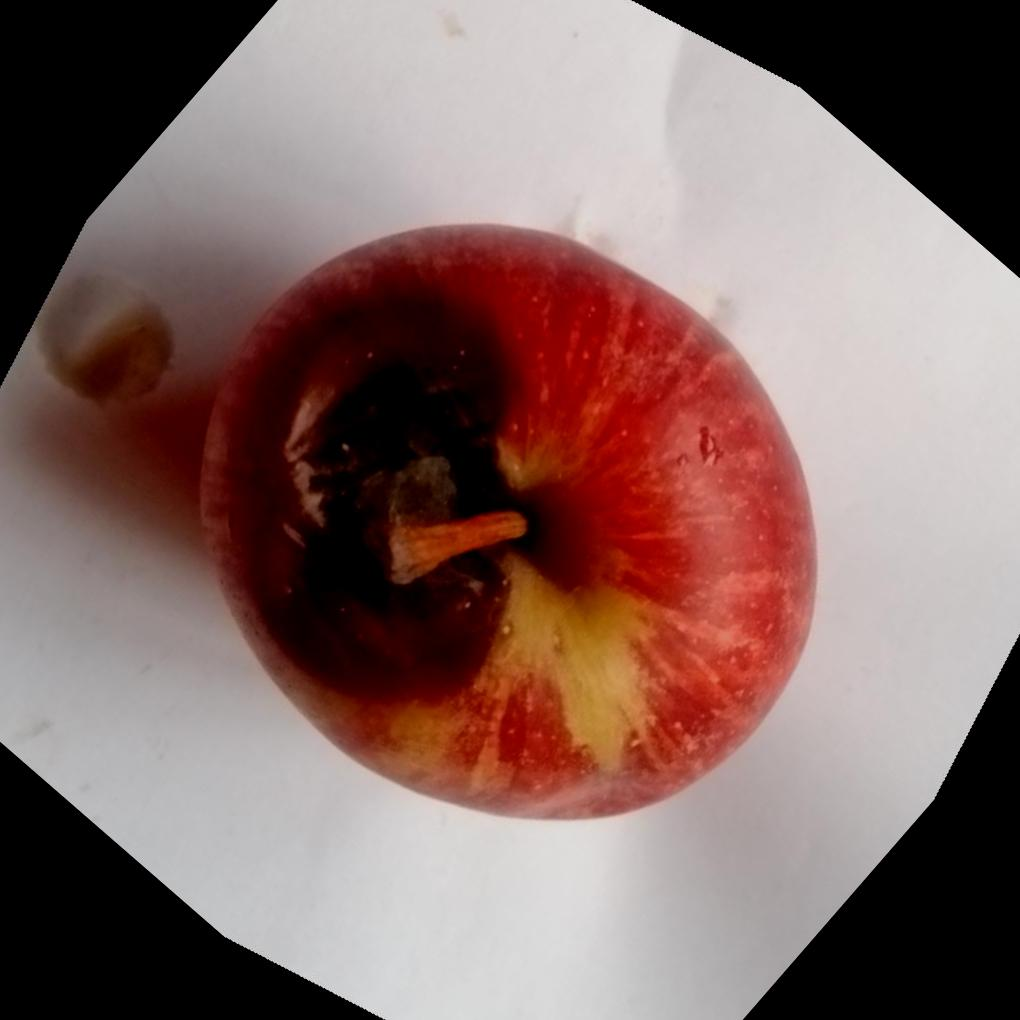FreshOrange: (197, 223, 822, 823)
